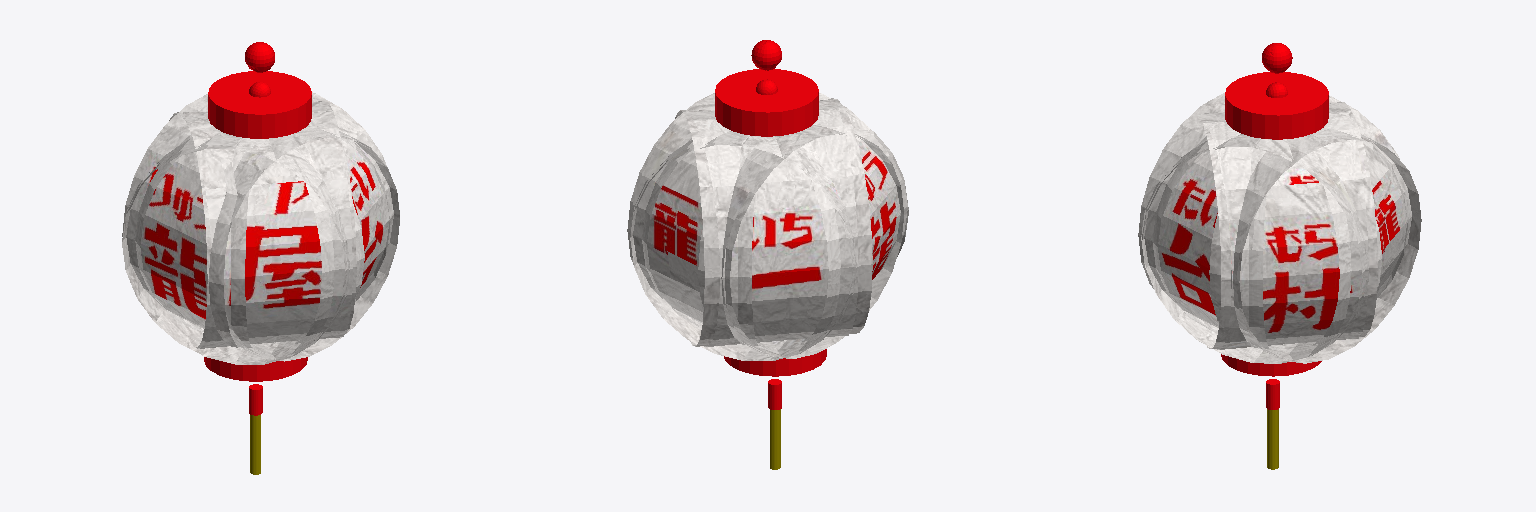
3 views of the same model, side by side, from view 1: azimuth 30°, elevation 25°; view 2: azimuth 150°, elevation 25°; view 3: azimuth 270°, elevation 25° (orthographic).
Visible parts, largest first — view 1: Group_001; view 2: Group_001; view 3: Group_001.
Boxes of the visible parts, <box> form: Group_001: <box>122,42,399,474</box>; Group_001: <box>627,40,908,469</box>; Group_001: <box>1138,43,1421,469</box>.
Bounding box in the file's own units: 1.17 × 2 × 1.21.
Materials: 4 (1 with a texture image).